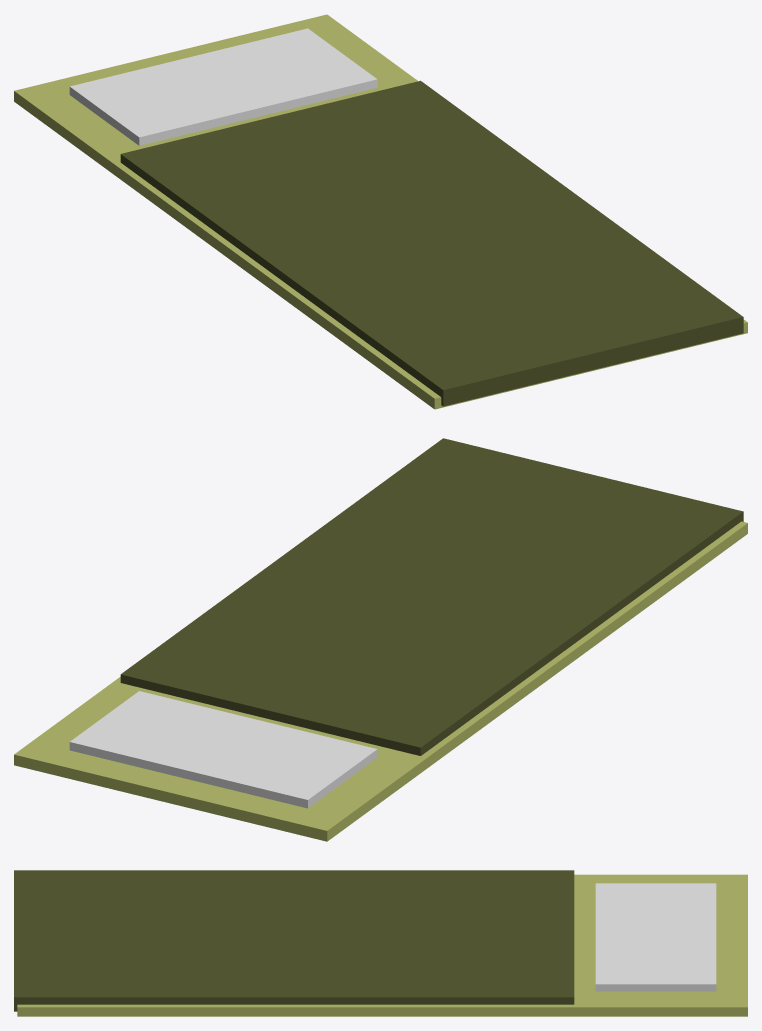
File: sleeping bag.fbx
The picture shows the model from 3 angles, top to bottom: view 1: azimuth 30°, elevation 25°; view 2: azimuth 150°, elevation 25°; view 3: azimuth 270°, elevation 25°; orthographic projection. The views are drawn at different scales.
Visible parts, largest first — view 1: Cube.002, Cube.001, Cube; view 2: Cube.002, Cube, Cube.001; view 3: Cube.002, Cube, Cube.001.
Boxes of the visible parts, <box> form: Cube.002: <box>120,80,743,406</box>; Cube.001: <box>69,28,377,145</box>; Cube: <box>14,14,747,409</box>; Cube.002: <box>120,438,743,755</box>; Cube: <box>14,521,747,841</box>; Cube.001: <box>69,691,377,808</box>; Cube.002: <box>14,870,574,1011</box>; Cube: <box>17,874,747,1016</box>; Cube.001: <box>595,883,716,991</box>.
Bounding box in the file's own units: 520 × 30.53 × 1215.
